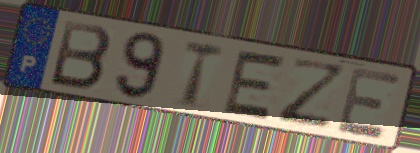9: (112, 29, 168, 102)
B: (47, 17, 115, 93)
E: (218, 47, 290, 123), (335, 64, 405, 142)
T: (180, 37, 227, 110)
Z: (275, 54, 351, 130)
